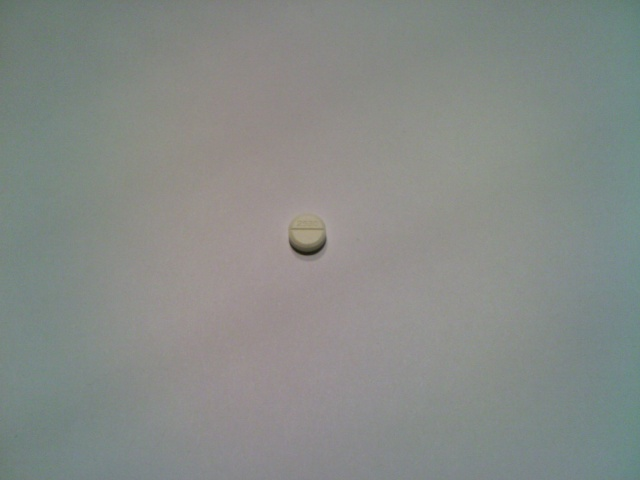|: (283, 222, 328, 234)
